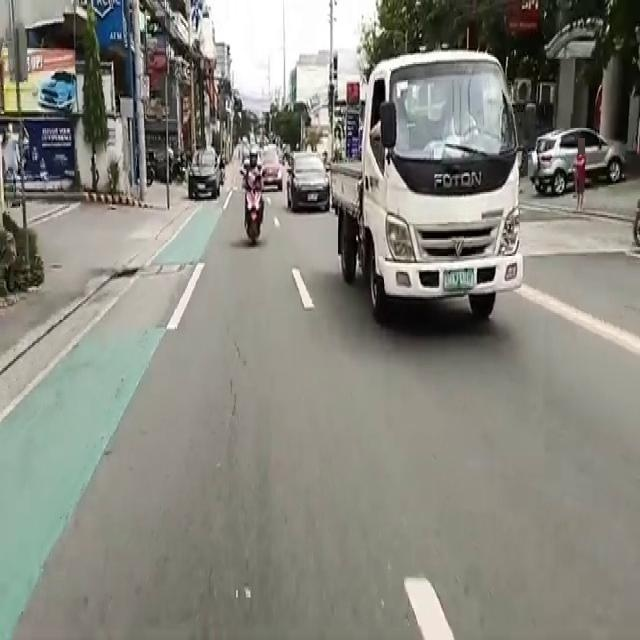car: (536, 125, 624, 187), (289, 150, 327, 213), (183, 154, 219, 197)
motorcycle: (243, 150, 270, 252)
truck: (334, 40, 520, 340)
